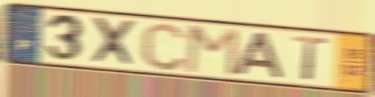3: (45, 11, 87, 64)
A: (232, 30, 287, 80)
C: (139, 20, 188, 72)
M: (182, 24, 242, 79)
T: (291, 34, 330, 83)
X: (89, 16, 139, 70)
